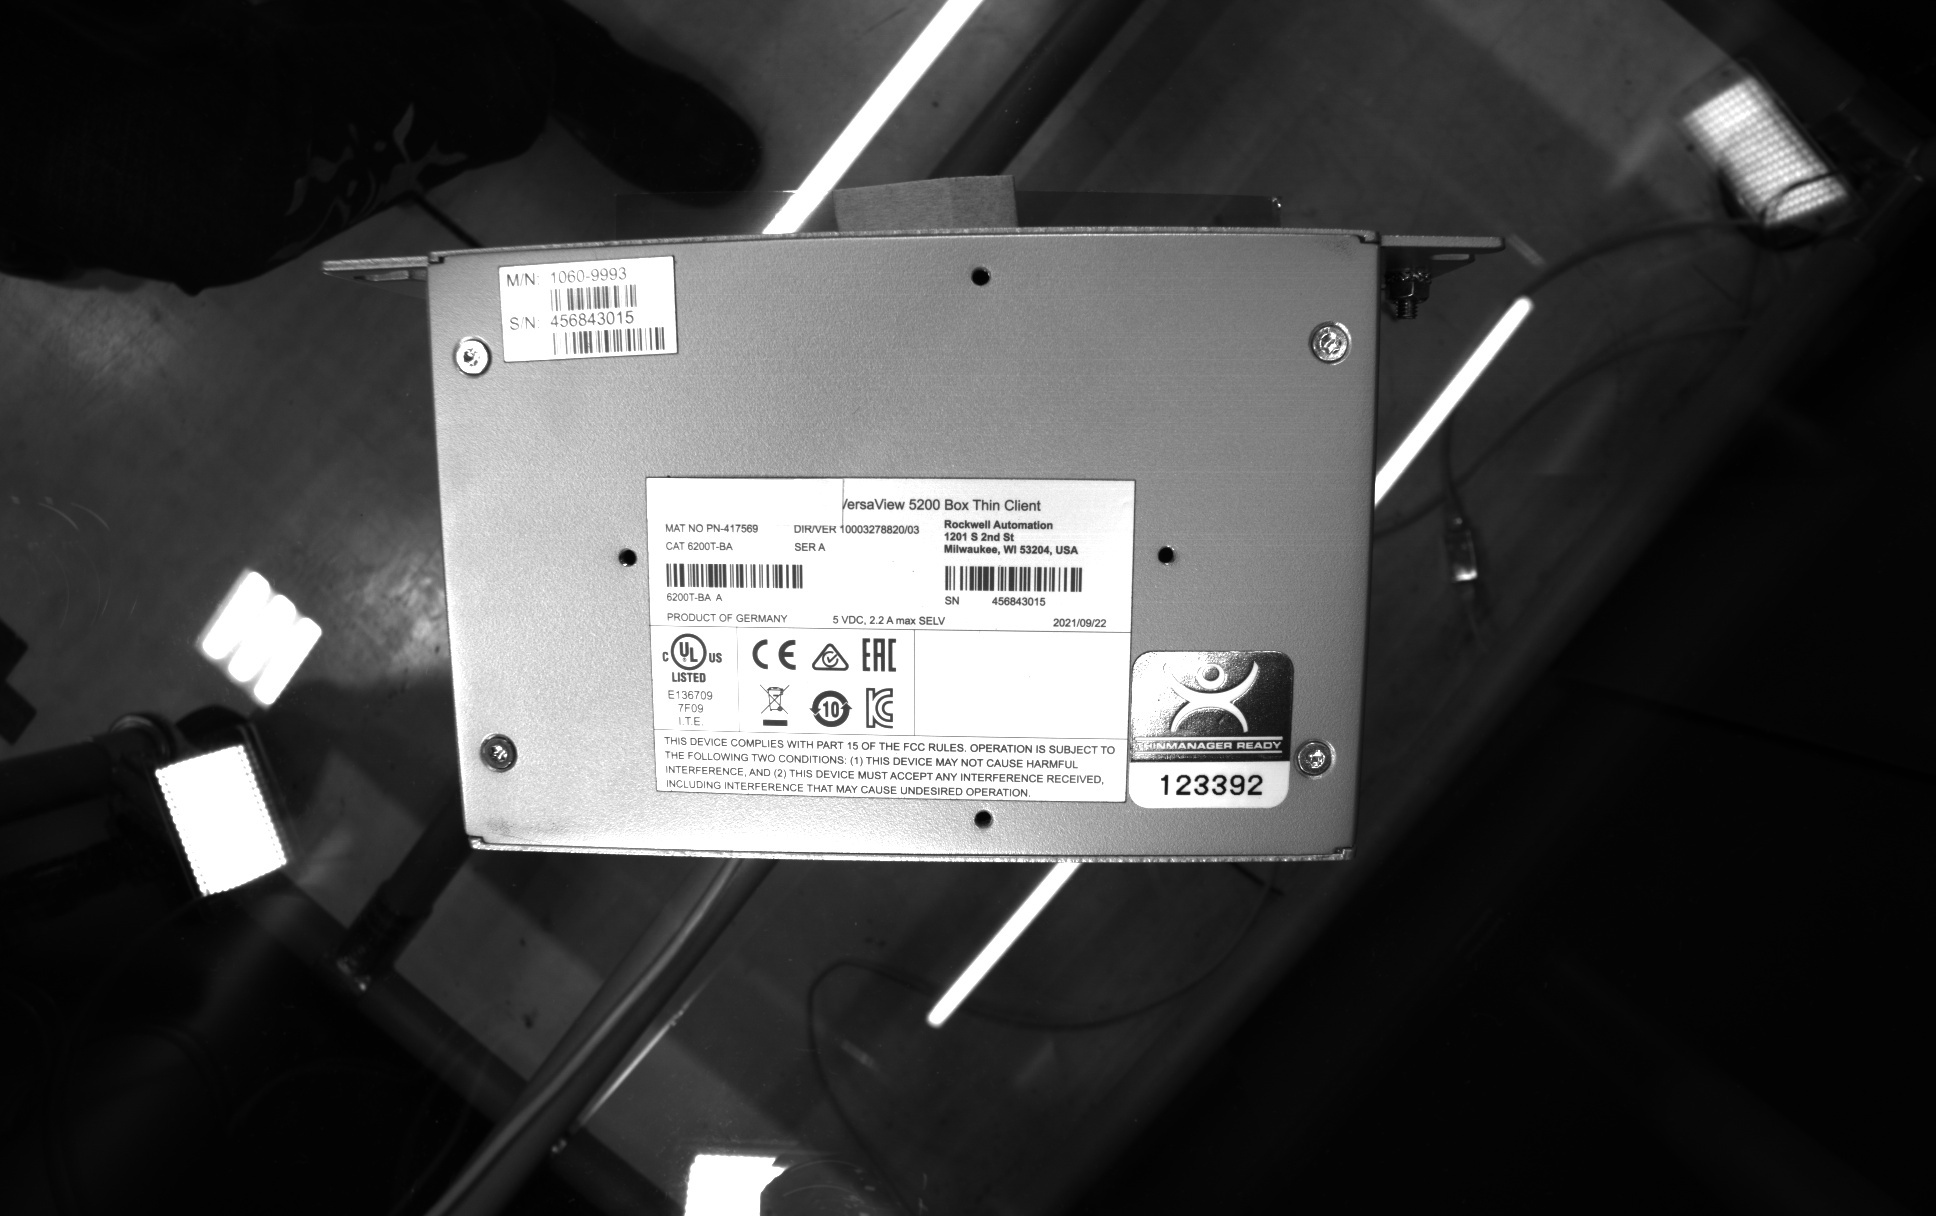Barcode: (937, 559, 1091, 595), (660, 556, 808, 593), (544, 321, 670, 359), (544, 275, 644, 317)
CamTop: (408, 209, 1397, 883)
Label_Seriennummer: (633, 464, 1149, 818)
Loch_Montage: (607, 532, 646, 577), (1147, 532, 1187, 574), (967, 801, 1009, 841), (960, 256, 1000, 293)
Schraube: (1306, 317, 1362, 368), (471, 723, 521, 779), (1293, 730, 1343, 785), (448, 332, 497, 384)
